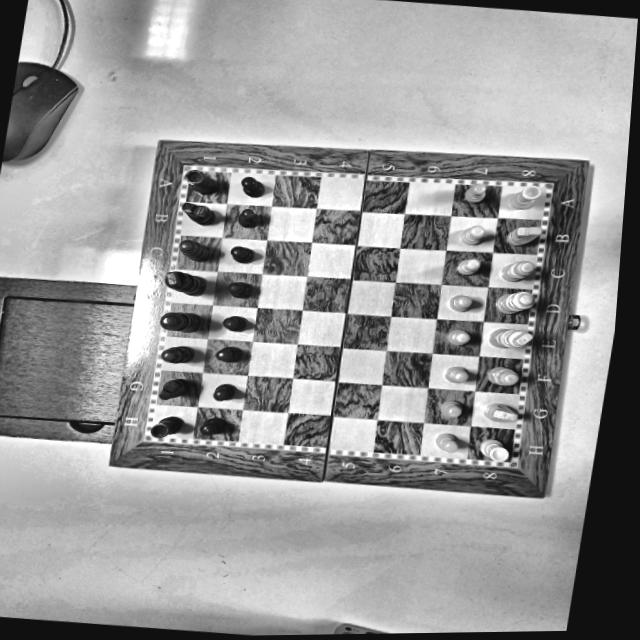black-bishop: (170, 234, 212, 267), (156, 340, 192, 368)
black-king: (157, 263, 214, 303)
black-knight: (172, 195, 218, 229), (153, 371, 191, 404)
black-pawn: (192, 414, 230, 438), (230, 172, 266, 197), (216, 308, 250, 334), (207, 377, 237, 406), (212, 338, 244, 364), (229, 202, 259, 229), (225, 240, 255, 264), (225, 277, 253, 300)
black-queen: (154, 305, 200, 338)
black-rook: (176, 164, 221, 198), (145, 411, 184, 440)
white-bishop: (496, 253, 537, 283), (483, 362, 523, 389)
white-king: (484, 322, 536, 350)
white-knight: (500, 219, 543, 250), (479, 399, 521, 424)
white-pawn: (430, 427, 464, 457), (453, 221, 487, 247), (437, 325, 475, 348), (451, 253, 485, 278), (443, 291, 476, 314), (438, 361, 470, 384), (457, 180, 489, 202), (435, 396, 465, 419)
white-queen: (491, 284, 537, 317)
white-rook: (504, 179, 543, 211), (471, 435, 515, 463)
